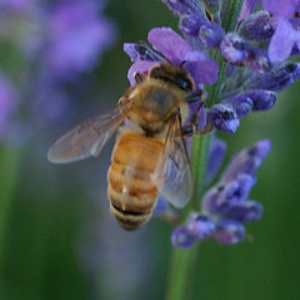bee: (44, 60, 202, 240)
